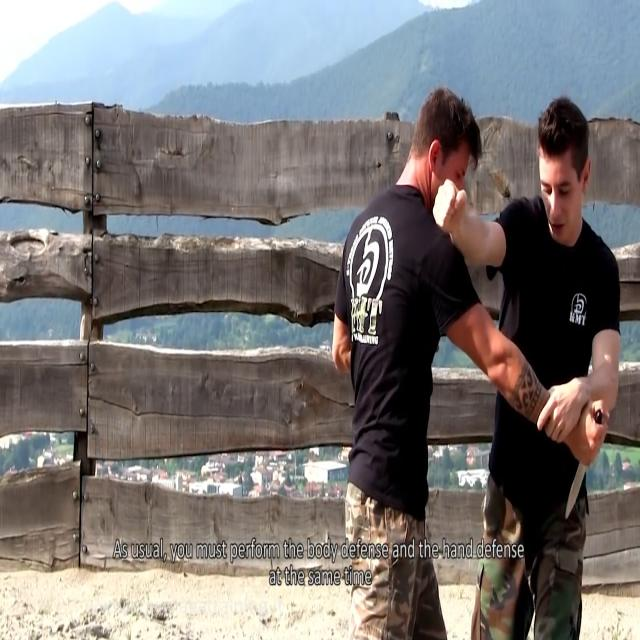knife: (564, 407, 606, 525)
